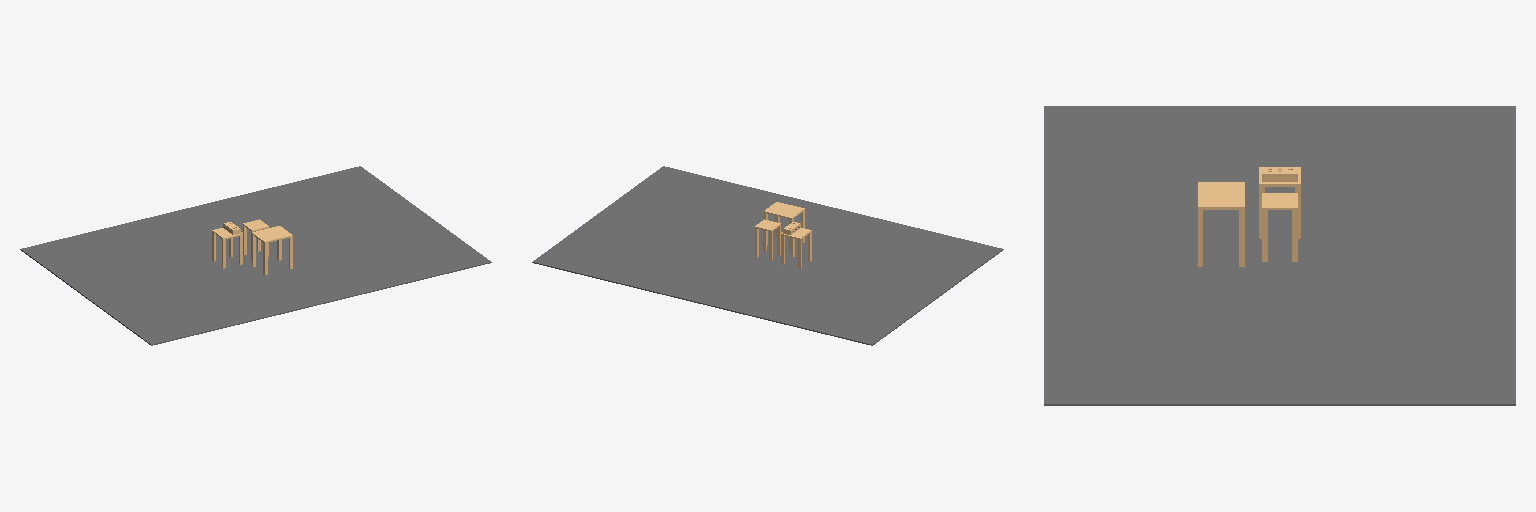
The robot description file, URDF, robot "environment":
<?xml version='1.0' encoding='utf-8'?>
<robot name="environment">
  <link name="world_root" />
  <link name="world/root" />
  <joint name="world_root_to_world/root" type="fixed">
    <parent link="world_root" />
    <child link="world/root" />
    <origin xyz="0.0 0.0 0.0" rpy="0.0 0.0 0.0" />
  </joint>
  <link name="montessori/panda_mount" />
  <joint name="montessori/root_T_panda_mount" type="fixed">
    <parent link="world/root" />
    <child link="montessori/panda_mount" />
    <origin xyz="0.0 0.0 0.5125" rpy="0.0 0.0 3.141593" />
  </joint>
  <link name="montessori/robot_stand">
    <visual>
      <origin xyz="0.0 0.0 0.0" rpy="0.0 0.0 0.0" />
      <geometry>
        <box size="0.3 0.3 0.025" />
      </geometry>
      <material name="">
        <color rgba="1.0 0.827 0.6078 1.0" />
      </material>
    </visual>
    <visual>
      <origin xyz="-0.125 -0.125 -0.25625" rpy="0.0 0.0 0.0" />
      <geometry>
        <box size="0.05 0.05 0.4875" />
      </geometry>
      <material name="">
        <color rgba="1.0 0.827 0.6078 1.0" />
      </material>
    </visual>
    <visual>
      <origin xyz="-0.125 0.125 -0.25625" rpy="0.0 0.0 0.0" />
      <geometry>
        <box size="0.05 0.05 0.4875" />
      </geometry>
      <material name="">
        <color rgba="1.0 0.827 0.6078 1.0" />
      </material>
    </visual>
    <visual>
      <origin xyz="0.125 -0.125 -0.25625" rpy="0.0 0.0 0.0" />
      <geometry>
        <box size="0.05 0.05 0.4875" />
      </geometry>
      <material name="">
        <color rgba="1.0 0.827 0.6078 1.0" />
      </material>
    </visual>
    <visual>
      <origin xyz="0.125 0.125 -0.25625" rpy="0.0 0.0 0.0" />
      <geometry>
        <box size="0.05 0.05 0.4875" />
      </geometry>
      <material name="">
        <color rgba="1.0 0.827 0.6078 1.0" />
      </material>
    </visual>
  </link>
  <joint name="montessori/root_T_robot_stand" type="fixed">
    <parent link="world/root" />
    <child link="montessori/robot_stand" />
    <origin xyz="0.0 0.0 0.5" rpy="0.0 0.0 0.0" />
  </joint>
  <link name="montessori/board">
    <visual>
      <origin xyz="0.0 0.0 0.0" rpy="0.0 0.0 0.0" />
      <geometry>
        <mesh filename="meshes/environment/35061_p1eifze_/35061_p1eifze_.obj" scale="1.0 1.0 1.0" />
      </geometry>
      <material name="">
        <color rgba="1.0 0.827 0.6078 1.0" />
      </material>
    </visual>
  </link>
  <joint name="montessori/root_T_board" type="fixed">
    <parent link="world/root" />
    <child link="montessori/board" />
    <origin xyz="-0.4225 0.0 0.553" rpy="0.0 0.0 0.0" />
  </joint>
  <link name="montessori/drawer_3">
    <visual>
      <origin xyz="0.0 0.0 0.0" rpy="0.0 0.0 0.0" />
      <geometry>
        <box size="0.09 0.08 0.06" />
      </geometry>
      <material name="">
        <color rgba="1.0 0.827 0.6078 1.0" />
      </material>
    </visual>
  </link>
  <joint name="montessori/board_T_drawer_3" type="fixed">
    <parent link="montessori/board" />
    <child link="montessori/drawer_3" />
    <origin xyz="-0.003 -0.087 0.0" rpy="0.0 0.0 0.0" />
  </joint>
  <link name="montessori/drawer_3_handle">
    <visual>
      <origin xyz="0.0 0.0 0.0" rpy="0.0 0.0 0.0" />
      <geometry>
        <box size="0.03 0.015 0.015" />
      </geometry>
      <material name="">
        <color rgba="0.5 0.5 0.5 1.0" />
      </material>
    </visual>
  </link>
  <joint name="montessori/drawer_3_T_drawer_3_handle" type="fixed">
    <parent link="montessori/drawer_3" />
    <child link="montessori/drawer_3_handle" />
    <origin xyz="-0.061 0.0 0.001" rpy="0.0 0.0 0.0" />
  </joint>
  <link name="montessori/drawer_2">
    <visual>
      <origin xyz="0.0 0.0 0.0" rpy="0.0 0.0 0.0" />
      <geometry>
        <box size="0.09 0.08 0.06" />
      </geometry>
      <material name="">
        <color rgba="1.0 0.827 0.6078 1.0" />
      </material>
    </visual>
  </link>
  <joint name="montessori/board_T_drawer_2" type="fixed">
    <parent link="montessori/board" />
    <child link="montessori/drawer_2" />
    <origin xyz="-0.003 0.0 0.0" rpy="0.0 0.0 0.0" />
  </joint>
  <link name="montessori/drawer_2_handle">
    <visual>
      <origin xyz="0.0 0.0 0.0" rpy="0.0 0.0 0.0" />
      <geometry>
        <box size="0.03 0.015 0.015" />
      </geometry>
      <material name="">
        <color rgba="0.5 0.5 0.5 1.0" />
      </material>
    </visual>
  </link>
  <joint name="montessori/drawer_2_T_drawer_2_handle" type="fixed">
    <parent link="montessori/drawer_2" />
    <child link="montessori/drawer_2_handle" />
    <origin xyz="-0.061 0.0 0.001" rpy="0.0 0.0 0.0" />
  </joint>
  <link name="montessori/drawer_1">
    <visual>
      <origin xyz="0.0 0.0 0.0" rpy="0.0 0.0 0.0" />
      <geometry>
        <box size="0.09 0.08 0.06" />
      </geometry>
      <material name="">
        <color rgba="1.0 0.827 0.6078 1.0" />
      </material>
    </visual>
  </link>
  <joint name="montessori/board_T_drawer_1" type="fixed">
    <parent link="montessori/board" />
    <child link="montessori/drawer_1" />
    <origin xyz="-0.003 0.087 0.0" rpy="0.0 0.0 0.0" />
  </joint>
  <link name="montessori/drawer_1_handle">
    <visual>
      <origin xyz="0.0 0.0 0.0" rpy="0.0 0.0 0.0" />
      <geometry>
        <box size="0.03 0.015 0.015" />
      </geometry>
      <material name="">
        <color rgba="0.5 0.5 0.5 1.0" />
      </material>
    </visual>
  </link>
  <joint name="montessori/drawer_1_T_drawer_1_handle" type="fixed">
    <parent link="montessori/drawer_1" />
    <child link="montessori/drawer_1_handle" />
    <origin xyz="-0.061 0.0 0.001" rpy="0.0 0.0 0.0" />
  </joint>
  <link name="montessori/shape_stand">
    <visual>
      <origin xyz="0.0 0.0 0.0" rpy="0.0 0.0 0.0" />
      <geometry>
        <box size="0.5 0.4 0.025" />
      </geometry>
      <material name="">
        <color rgba="1.0 0.827 0.6078 1.0" />
      </material>
    </visual>
    <visual>
      <origin xyz="-0.225 -0.175 -0.28275" rpy="0.0 0.0 0.0" />
      <geometry>
        <box size="0.05 0.05 0.5405" />
      </geometry>
      <material name="">
        <color rgba="1.0 0.827 0.6078 1.0" />
      </material>
    </visual>
    <visual>
      <origin xyz="-0.225 0.175 -0.28275" rpy="0.0 0.0 0.0" />
      <geometry>
        <box size="0.05 0.05 0.5405" />
      </geometry>
      <material name="">
        <color rgba="1.0 0.827 0.6078 1.0" />
      </material>
    </visual>
    <visual>
      <origin xyz="0.225 -0.175 -0.28275" rpy="0.0 0.0 0.0" />
      <geometry>
        <box size="0.05 0.05 0.5405" />
      </geometry>
      <material name="">
        <color rgba="1.0 0.827 0.6078 1.0" />
      </material>
    </visual>
    <visual>
      <origin xyz="0.225 0.175 -0.28275" rpy="0.0 0.0 0.0" />
      <geometry>
        <box size="0.05 0.05 0.5405" />
      </geometry>
      <material name="">
        <color rgba="1.0 0.827 0.6078 1.0" />
      </material>
    </visual>
  </link>
  <joint name="montessori/root_T_shape_stand" type="fixed">
    <parent link="world/root" />
    <child link="montessori/shape_stand" />
    <origin xyz="0.0 -0.5 0.553" rpy="0.0 0.0 0.0" />
  </joint>
  <link name="montessori/board_table">
    <visual>
      <origin xyz="0.0 0.0 0.0" rpy="0.0 0.0 0.0" />
      <geometry>
        <box size="0.35 0.35 0.025" />
      </geometry>
      <material name="">
        <color rgba="1.0 0.827 0.6078 1.0" />
      </material>
    </visual>
    <visual>
      <origin xyz="-0.15 -0.15 -0.25625" rpy="0.0 0.0 0.0" />
      <geometry>
        <box size="0.05 0.05 0.4875" />
      </geometry>
      <material name="">
        <color rgba="1.0 0.827 0.6078 1.0" />
      </material>
    </visual>
    <visual>
      <origin xyz="-0.15 0.15 -0.25625" rpy="0.0 0.0 0.0" />
      <geometry>
        <box size="0.05 0.05 0.4875" />
      </geometry>
      <material name="">
        <color rgba="1.0 0.827 0.6078 1.0" />
      </material>
    </visual>
    <visual>
      <origin xyz="0.15 -0.15 -0.25625" rpy="0.0 0.0 0.0" />
      <geometry>
        <box size="0.05 0.05 0.4875" />
      </geometry>
      <material name="">
        <color rgba="1.0 0.827 0.6078 1.0" />
      </material>
    </visual>
    <visual>
      <origin xyz="0.15 0.15 -0.25625" rpy="0.0 0.0 0.0" />
      <geometry>
        <box size="0.05 0.05 0.4875" />
      </geometry>
      <material name="">
        <color rgba="1.0 0.827 0.6078 1.0" />
      </material>
    </visual>
  </link>
  <joint name="montessori/root_T_board_table" type="fixed">
    <parent link="world/root" />
    <child link="montessori/board_table" />
    <origin xyz="-0.5 0.0 0.5" rpy="0.0 0.0 0.0" />
  </joint>
  <link name="montessori/floor">
    <visual>
      <origin xyz="0.0 0.0 0.0" rpy="0.0 0.0 0.0" />
      <geometry>
        <box size="6.0 4.0 0.02" />
      </geometry>
      <material name="">
        <color rgba="0.5 0.5 0.5 1.0" />
      </material>
    </visual>
  </link>
  <joint name="montessori/root_T_floor" type="fixed">
    <parent link="world/root" />
    <child link="montessori/floor" />
    <origin xyz="0.0 0.0 -0.01" rpy="0.0 0.0 0.0" />
  </joint>
</robot>

--- Render facts (derived) ---
3 views of the same robot in one strip: view 1: azimuth 30°, elevation 25°; view 2: azimuth 150°, elevation 25°; view 3: azimuth 270°, elevation 25° (orthographic).
Robot: environment — 14 links, 13 joints (13 fixed); root link world_root; default pose: every joint at zero.
Visible links, largest first — view 1: montessori/floor, montessori/shape_stand, montessori/board_table; view 2: montessori/floor, montessori/shape_stand, montessori/robot_stand, montessori/board_table; view 3: montessori/floor, montessori/shape_stand, montessori/robot_stand, montessori/board_table, montessori/board.
Link boxes in pixels (box(x1,y1,x2,y2)): montessori/floor: box(20, 166, 491, 345); montessori/shape_stand: box(252, 226, 292, 274); montessori/board_table: box(212, 228, 242, 268); montessori/floor: box(532, 166, 1003, 345); montessori/shape_stand: box(764, 202, 804, 250); montessori/robot_stand: box(755, 219, 780, 260); montessori/board_table: box(781, 228, 811, 268); montessori/floor: box(1044, 106, 1515, 405); montessori/shape_stand: box(1198, 182, 1244, 266); montessori/robot_stand: box(1262, 193, 1297, 261); montessori/board_table: box(1259, 167, 1300, 238); montessori/board: box(1262, 167, 1297, 181).
Size in the robot's own frame: 6 by 4 by 0.613 metres.
Meshes: 1 distinct files referenced, 1 mesh visuals loaded (1 OBJ).
